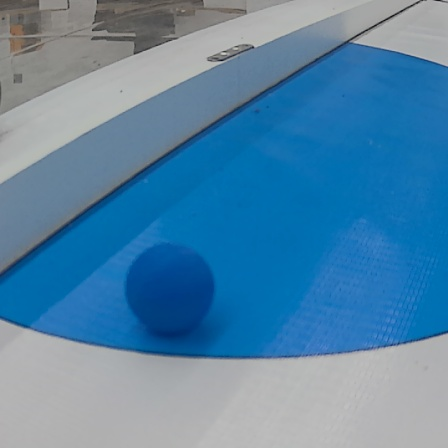blue: (128, 242, 218, 336)
blue_base: (2, 43, 448, 363)
